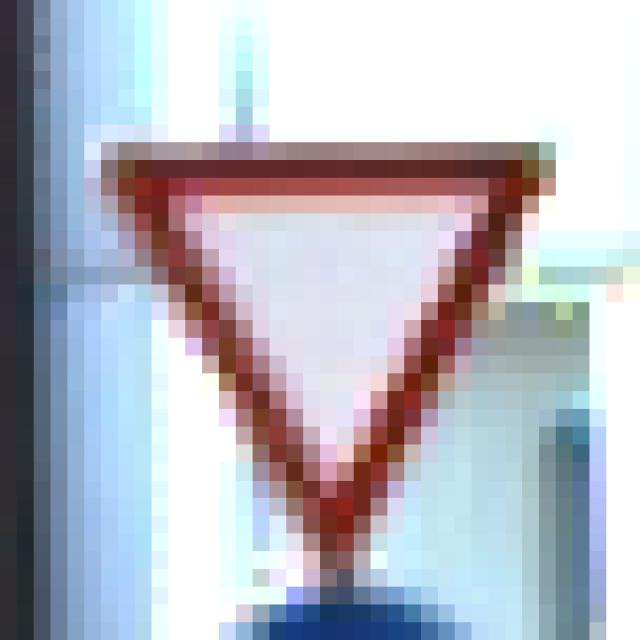Give Way: (85, 108, 557, 552)
